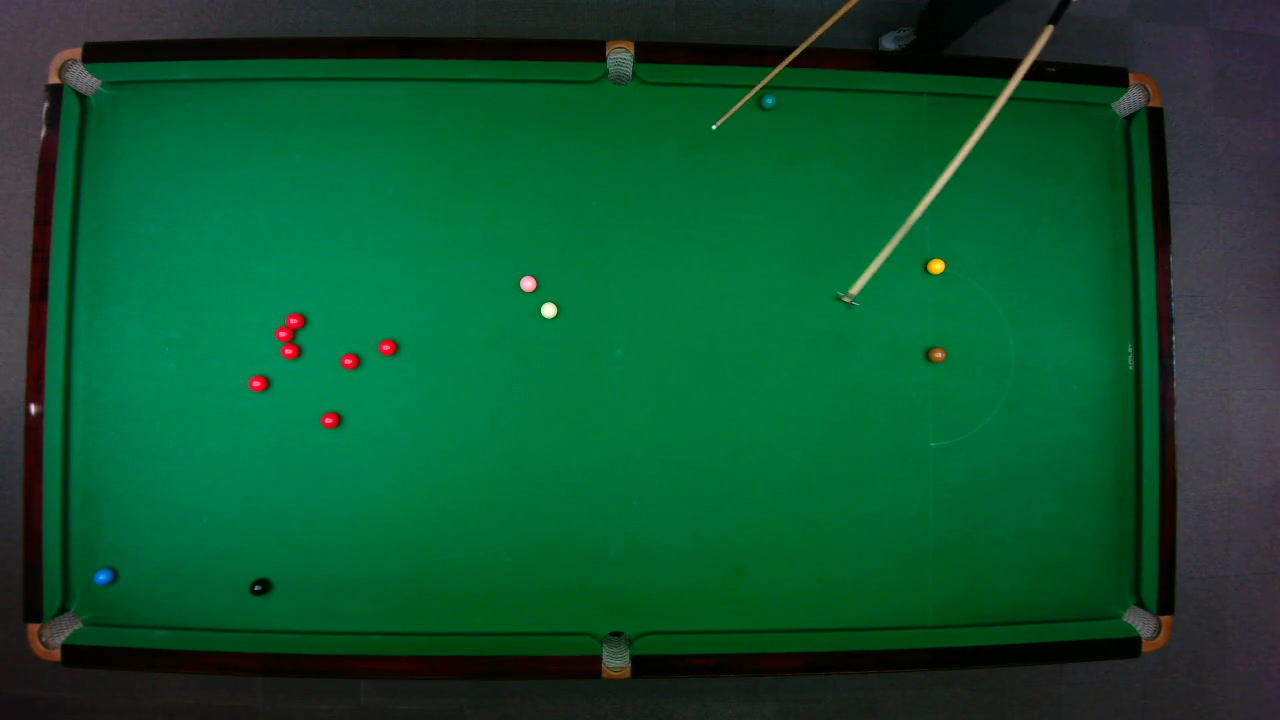bag: (25, 609, 84, 661), (45, 46, 102, 96), (1120, 603, 1172, 652), (1108, 71, 1161, 117), (601, 629, 630, 680), (605, 38, 633, 85)
black: (248, 577, 268, 596)
blue: (92, 566, 114, 585)
brown: (926, 346, 946, 362)
cue: (708, 0, 858, 133)
green: (759, 92, 776, 109)
pink: (518, 274, 537, 292)
red: (318, 410, 340, 429), (246, 373, 268, 392), (284, 311, 305, 330), (278, 342, 300, 359), (377, 338, 397, 356), (273, 324, 293, 342), (339, 352, 359, 369)
white: (538, 300, 558, 319)
yellow: (925, 257, 945, 274)
zone: (927, 268, 1013, 445)
